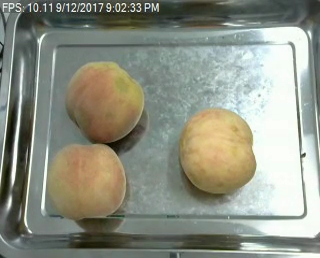Peach: (66, 61, 145, 144), (181, 107, 256, 193), (49, 143, 126, 221)
